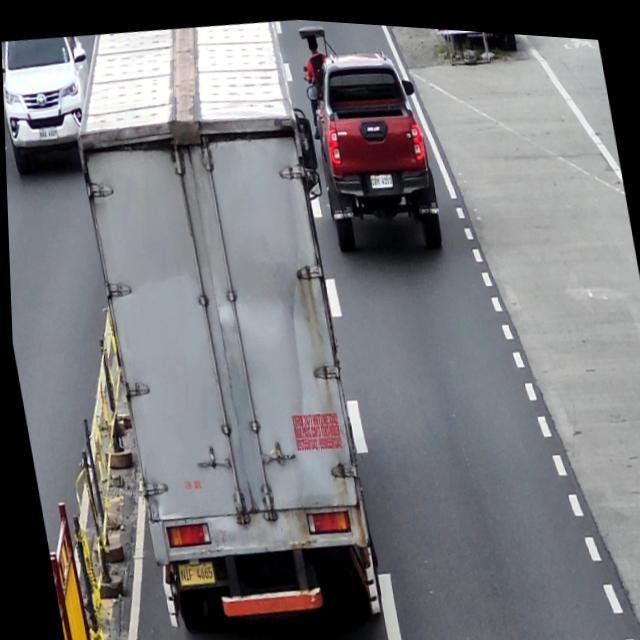Car: (301, 35, 448, 265)
License-Plate: (173, 557, 212, 586), (368, 166, 392, 185)
Truck: (56, 3, 399, 640)
